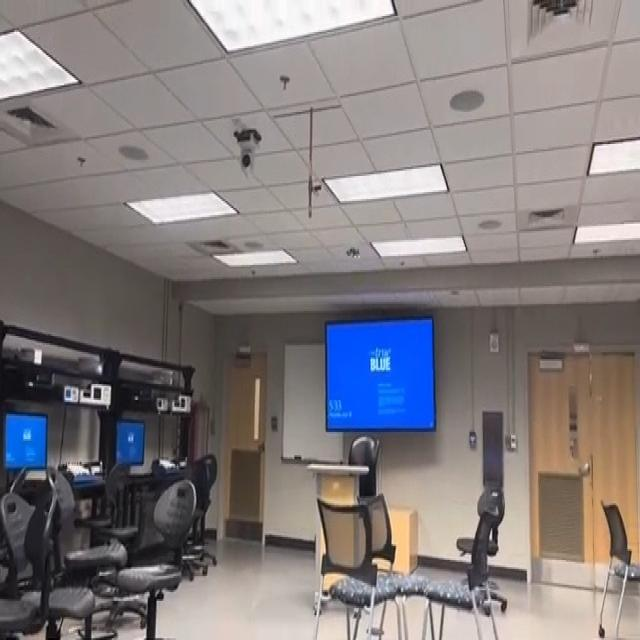drone: (336, 232, 372, 272)
